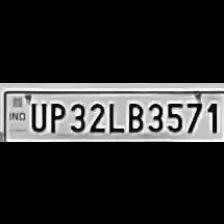1: (202, 99, 222, 133)
2: (87, 98, 105, 132)
3: (66, 98, 86, 132), (146, 98, 162, 132)
5: (164, 98, 182, 132)
7: (184, 99, 202, 133)
B: (124, 98, 144, 132)
L: (105, 98, 123, 132)
P: (46, 99, 66, 133)
U: (27, 99, 46, 131)
